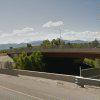Bridge: (7, 32, 97, 66)
